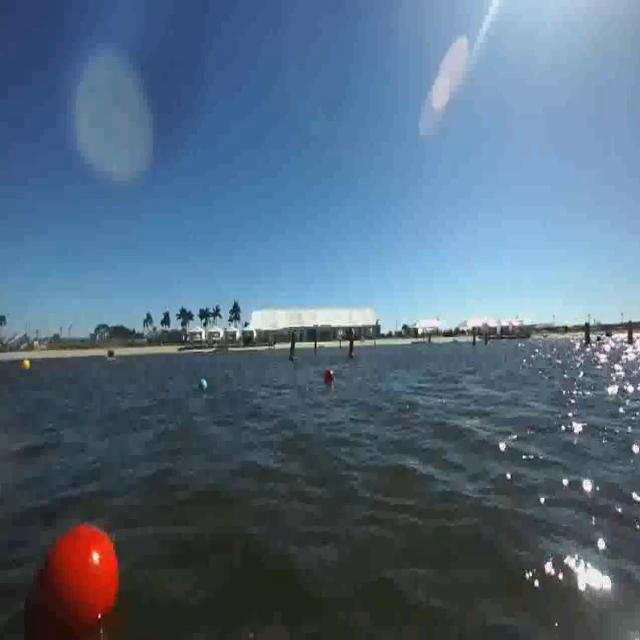green-buoy: (201, 380, 207, 390)
green-column-buoy: (287, 333, 298, 363)
red-buoy: (24, 515, 128, 638), (327, 368, 336, 382)
red-column-buoy: (348, 331, 358, 359)
yellow-buoy: (23, 357, 32, 371)
